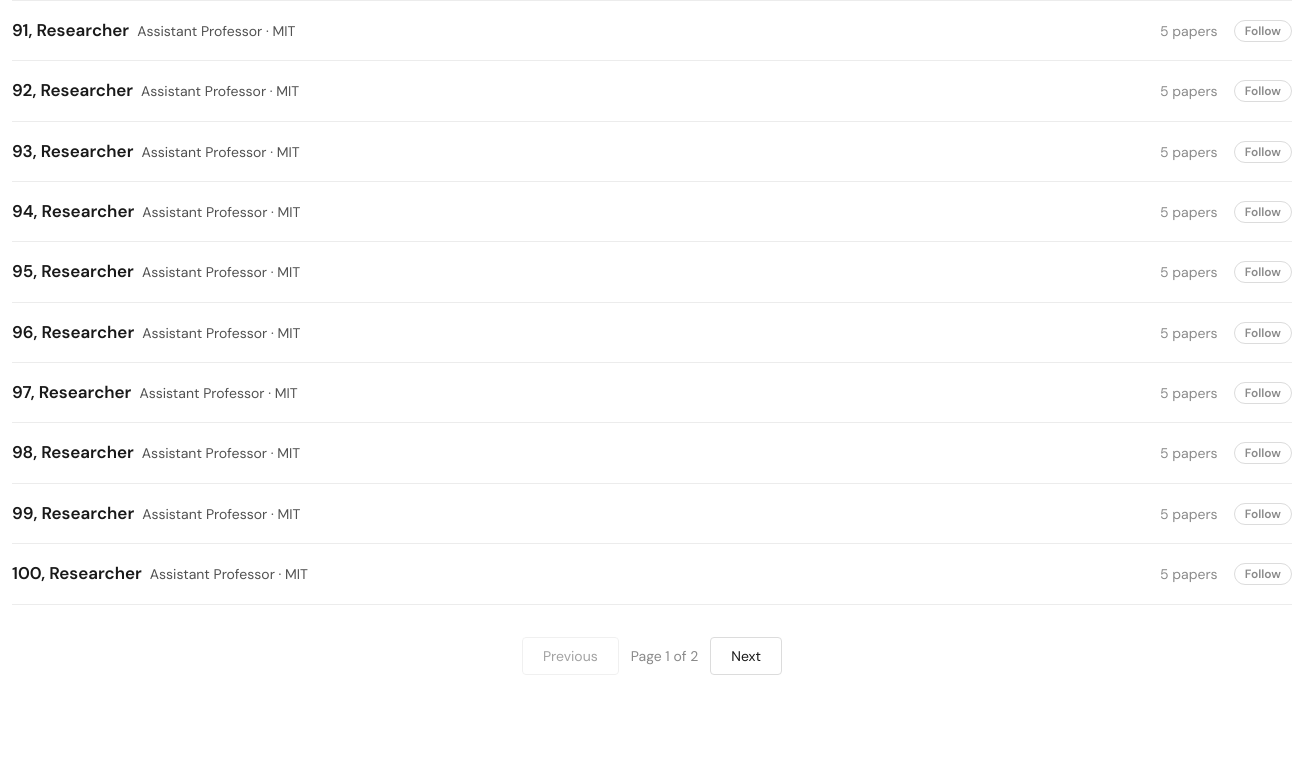
Test case: ResearchersContent › shows totals and navigates past the first 100 results while keeping filters
(page scrolled)
Expected: the button "Previous" is disabled, [522,636,619,674]
Click the button "Next" at (746, 656), box [710,636,782,674]
(page scrolled)
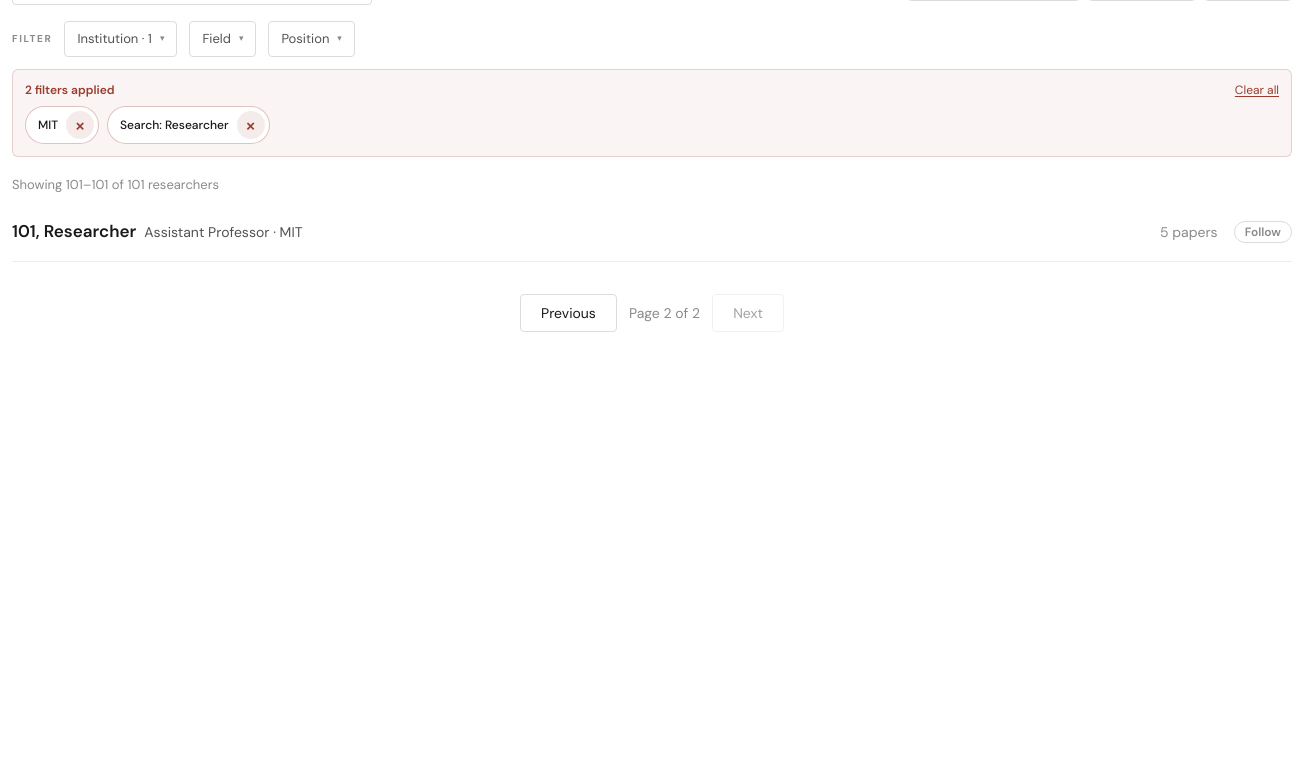
Expected: the link "101, Researcher" is shown, [12,220,136,242]
Expected: the text "Showing 101–101 of 101 researchers" is shown, [12,174,219,194]
Expected: the text "Page 2 of 2" is shown, [629,303,700,323]
Click the button "Previous" at (568, 313), box [520,294,617,332]
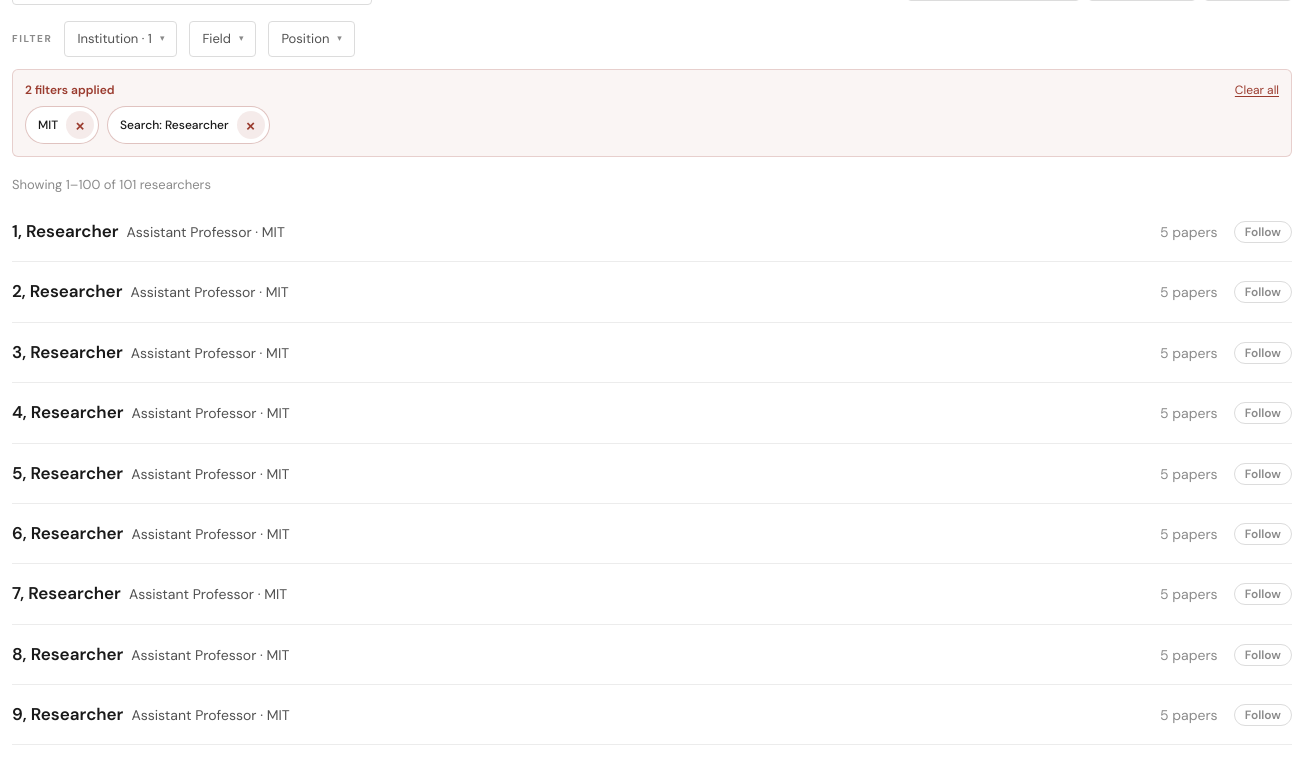
Expected: the text "Showing 1–100 of 101 researchers" is shown, [12,174,211,194]
